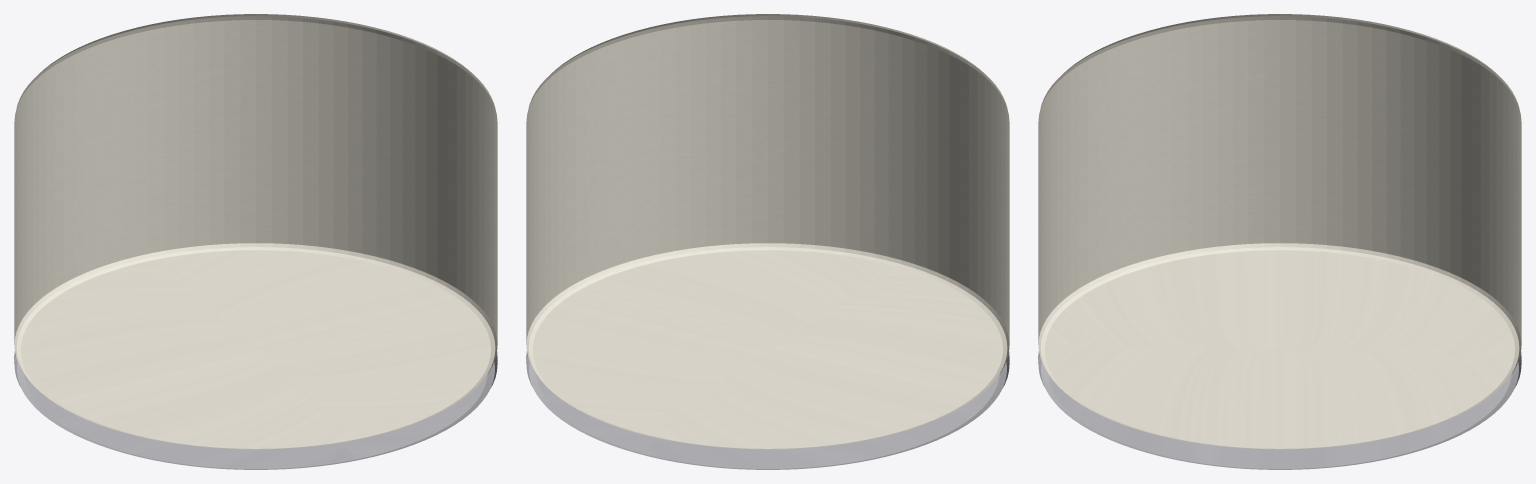
The model's file is cake_4in_layers2_v16.glb.
3 views of the same model, side by side, from view 1: azimuth 30°, elevation 25°; view 2: azimuth 150°, elevation 25°; view 3: azimuth 270°, elevation 25° (orthographic).
Parts seen in each view (by area): view 1: Cake, CakeBoard; view 2: Cake, CakeBoard; view 3: Cake, CakeBoard.
Part boxes in pixels (x1=…): Cake: x1=14, y1=14, x2=497, y2=449; CakeBoard: x1=14, y1=351, x2=497, y2=469; Cake: x1=526, y1=14, x2=1009, y2=449; CakeBoard: x1=526, y1=351, x2=1009, y2=469; Cake: x1=1038, y1=14, x2=1521, y2=449; CakeBoard: x1=1038, y1=351, x2=1521, y2=469.
Bounding box in the file's own units: 0.1016 × 0.06 × 0.1016.
2 materials, 2 textured.
